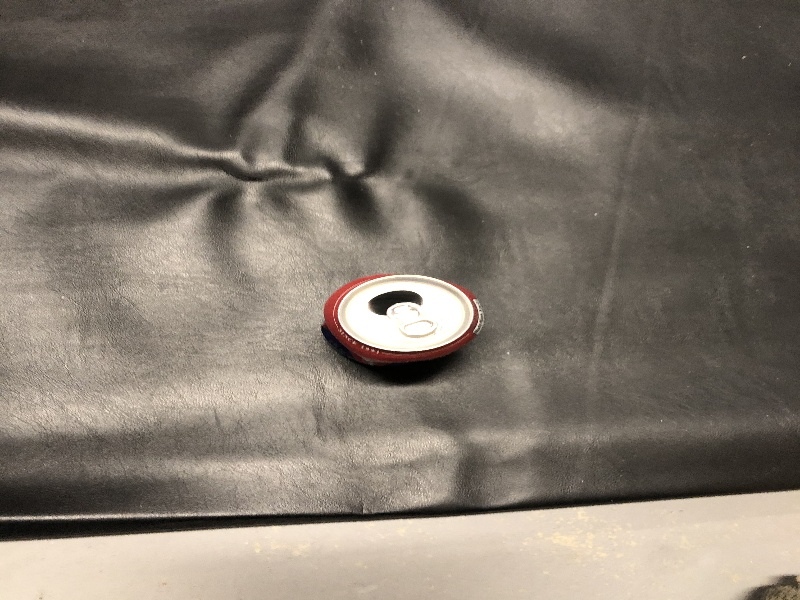metal: (320, 267, 489, 383)
